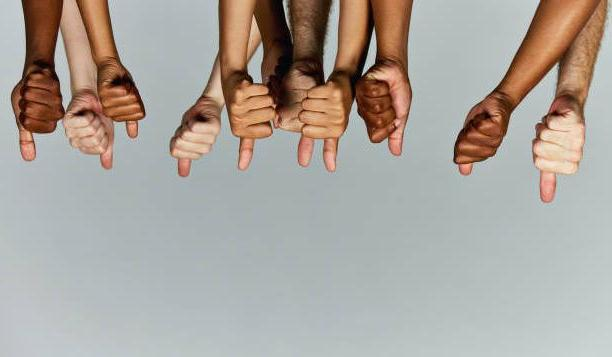thumbsdown: (530, 96, 588, 204), (353, 62, 414, 158), (8, 62, 64, 162), (452, 93, 510, 179), (299, 82, 350, 172), (229, 81, 274, 172), (168, 102, 220, 179), (276, 66, 313, 169), (63, 100, 115, 172), (96, 70, 147, 140)
